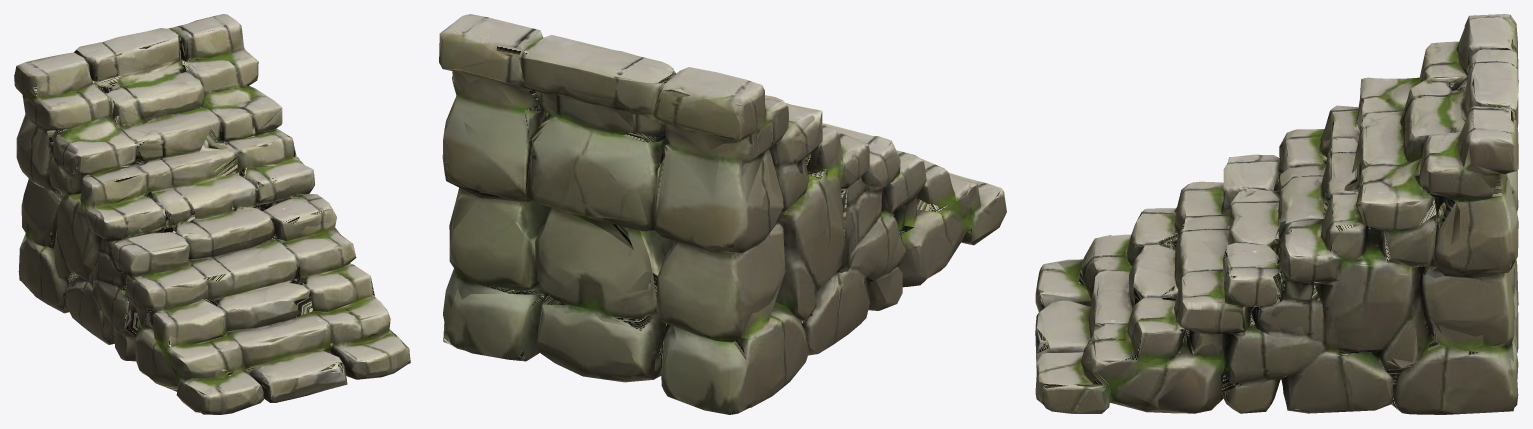
The model's file is temple_ruin_stair.glb.
3 views of the same model, side by side, from view 1: azimuth 30°, elevation 25°; view 2: azimuth 150°, elevation 25°; view 3: azimuth 270°, elevation 25° (orthographic). The views are drawn at different scales.
Visible parts, largest first — view 1: turn, mesh_lod; view 2: turn, mesh_lod; view 3: turn, mesh_lod.
Part boxes in pixels (x1=…): turn: x1=14, y1=14, x2=410, y2=414; mesh_lod: x1=17, y1=24, x2=408, y2=414; turn: x1=439, y1=14, x2=1006, y2=414; mesh_lod: x1=439, y1=20, x2=1006, y2=414; turn: x1=1035, y1=14, x2=1518, y2=414; mesh_lod: x1=1036, y1=15, x2=1517, y2=413.
Bounding box in the file's own units: 2.06 × 2 × 3.16.
Materials: 1 (1 with a texture image).
